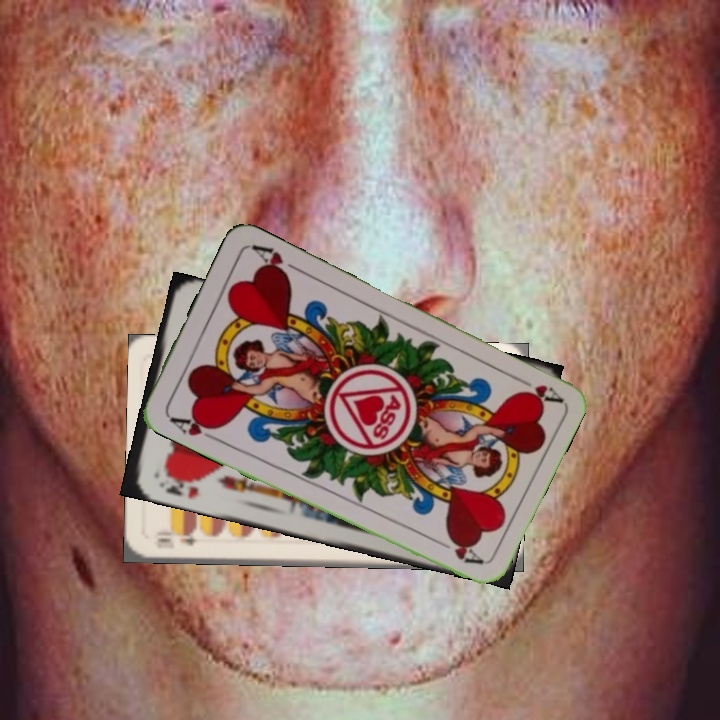E10: (150, 528, 199, 552)
HA: (507, 371, 564, 407), (164, 410, 223, 443)
HK: (155, 469, 203, 501)
